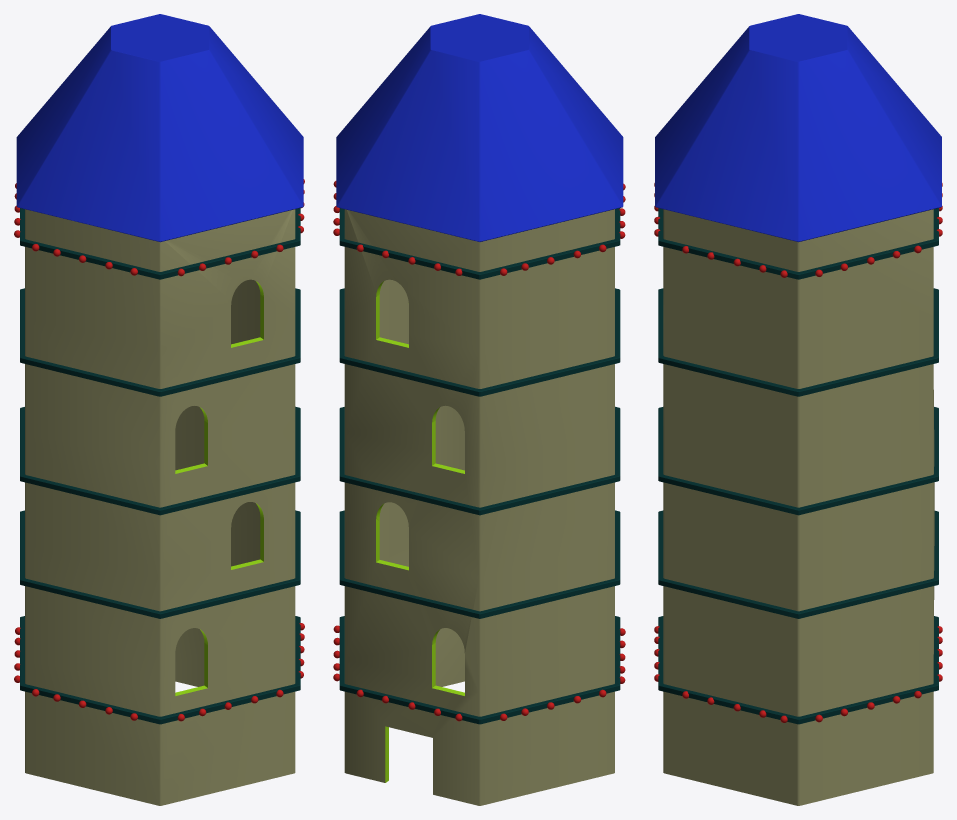
File: nowaWieza02.FBX
The picture shows the model from 3 angles, left to right: view 1: azimuth 30°, elevation 25°; view 2: azimuth 150°, elevation 25°; view 3: azimuth 270°, elevation 25°; orthographic projection.
Visible parts, largest first — view 1: Cylinder001, Cone001, Box003, Box001, Box004, Box, Box002; view 2: Cylinder001, Cone001, Box003, Box001, Box004, Box, Box002; view 3: Cylinder001, Cone001, Box003, Box004, Box001, Box, Box002.
Part boxes in pixels (x1,y1,x2,y2): Cylinder001: (25,209,295,805); Cone001: (16,14,303,242); Box003: (20,288,300,396); Box001: (20,510,300,618); Box004: (20,406,300,515); Box: (20,616,300,724); Box002: (20,208,300,279); Cylinder001: (344,209,614,805); Cone001: (336,14,623,241); Box003: (339,288,620,396); Box001: (339,510,620,618); Box004: (339,406,620,515); Box: (339,616,620,724); Box002: (339,208,620,279); Cylinder001: (663,209,934,805); Cone001: (655,14,941,242); Box003: (658,288,938,396); Box004: (658,407,938,515); Box001: (658,510,938,618); Box: (658,616,938,724); Box002: (658,208,938,279).
Size of the model in its own units: 1738 by 4072 by 1517.
